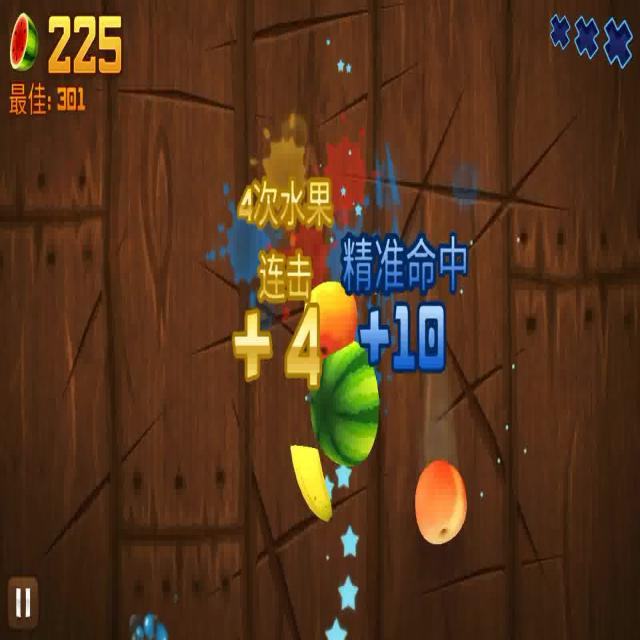fruit: (317, 348, 375, 466), (413, 453, 469, 550), (288, 431, 334, 528), (304, 281, 358, 362)
